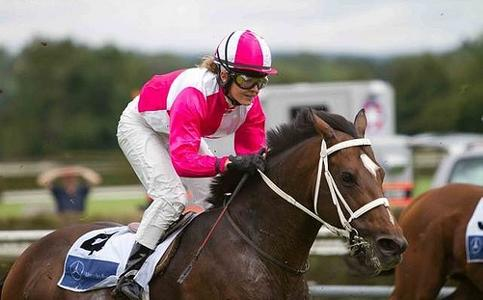person: (115, 29, 272, 300)
